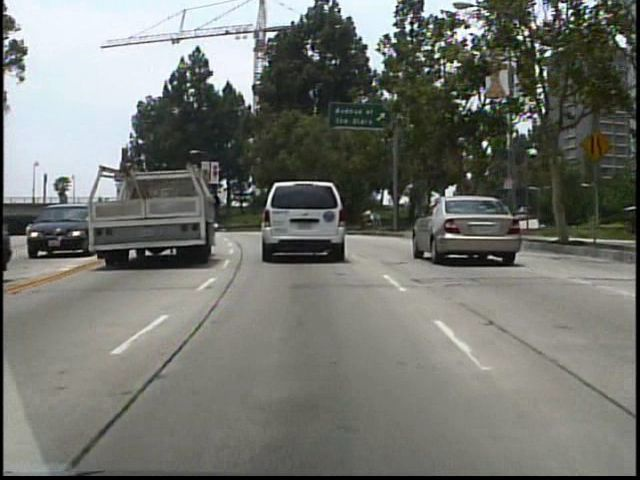person: (471, 192, 490, 241)
